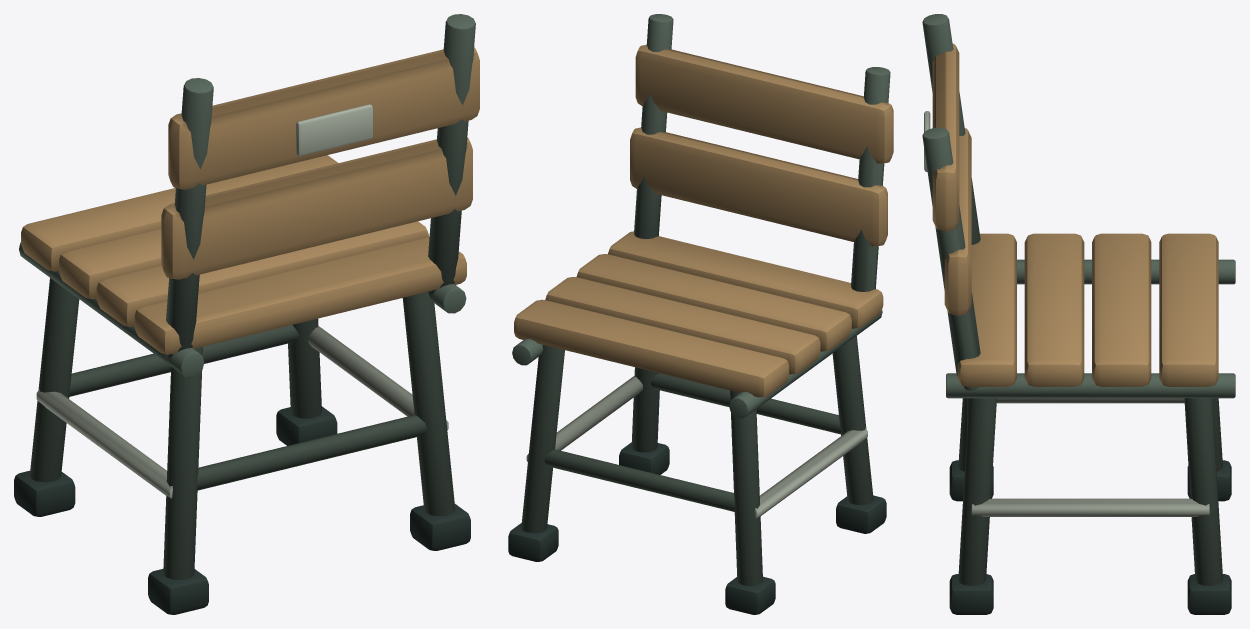
File: kf-field-chair.glb
3 views of the same model, side by side, from view 1: azimuth 30°, elevation 25°; view 2: azimuth 150°, elevation 25°; view 3: azimuth 270°, elevation 25° (orthographic). The views are drawn at different scales.
Parts seen in each view (by area): view 1: FieldChair Chair seat timber, FieldChair Chair powdercoat, FieldChair Chair fittings, FieldChair Chair rubber feet; view 2: FieldChair Chair seat timber, FieldChair Chair powdercoat, FieldChair Chair rubber feet, FieldChair Chair fittings; view 3: FieldChair Chair seat timber, FieldChair Chair powdercoat, FieldChair Chair fittings, FieldChair Chair rubber feet.
Part boxes in pixels (bbox=[...]): FieldChair Chair seat timber: bbox=[21, 47, 479, 354]; FieldChair Chair powdercoat: bbox=[19, 14, 475, 579]; FieldChair Chair fittings: bbox=[36, 104, 448, 498]; FieldChair Chair rubber feet: bbox=[14, 406, 470, 614]; FieldChair Chair seat timber: bbox=[514, 45, 893, 397]; FieldChair Chair powdercoat: bbox=[512, 14, 890, 585]; FieldChair Chair rubber feet: bbox=[508, 442, 886, 614]; FieldChair Chair fittings: bbox=[526, 375, 867, 518]; FieldChair Chair seat timber: bbox=[932, 43, 1218, 386]; FieldChair Chair powdercoat: bbox=[922, 14, 1235, 585]; FieldChair Chair fittings: bbox=[924, 111, 1209, 516]; FieldChair Chair rubber feet: bbox=[949, 460, 1231, 614].
Bounding box in the file's own units: 0.61 × 1.02 × 0.6054.
